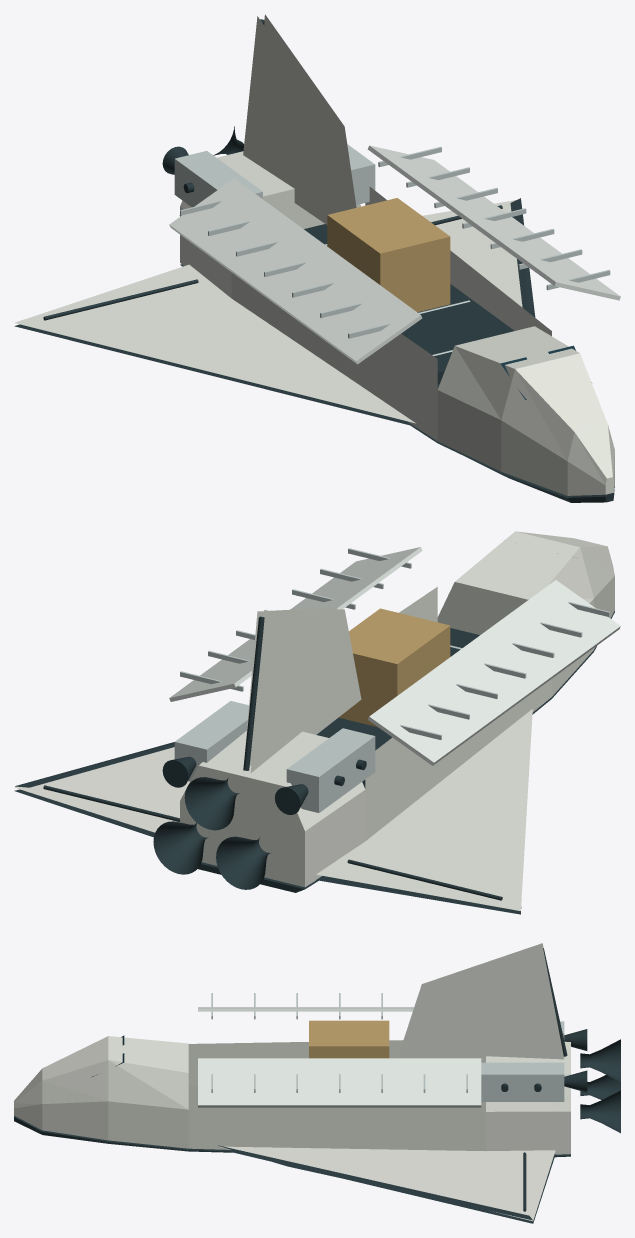
File: space-shuttle.glb
The picture shows the model from 3 angles, top to bottom: view 1: azimuth 30°, elevation 25°; view 2: azimuth 150°, elevation 25°; view 3: azimuth 270°, elevation 25°; orthographic projection. The views are drawn at different scales.
Parts seen in each view (by area): view 1: open-payload-bay-door (×2), double-delta-wing (×2), orbiter-forward-fuselage, vertical-stabilizer, open-bay-sidewall (×2), illustrative-payload-envelope, payload-bay-floor, payload, orbiter-aft-fuselage, OMS-RCS-pod (×2), frame, heatshield (+3 smaller); view 2: double-delta-wing (×2), open-payload-bay-door (×2), orbiter-aft-fuselage, vertical-stabilizer, orbiter-forward-fuselage, illustrative-payload-envelope, open-bay-sidewall (×2), OMS-RCS-pod (×2), space-shuttle-main-engine (×3), payload, heatshield, OMS-engine (×2) (+6 smaller); view 3: open-bay-sidewall (×2), open-payload-bay-door (×2), orbiter-forward-fuselage, frame, double-delta-wing, orbiter-aft-fuselage, OMS-RCS-pod, illustrative-payload-envelope, space-shuttle-main-engine (×3), reinforced-carbon-leading-edge, orbiter-belly-thermal-protection, heatshield (+3 smaller).
Boxes of the visible parts, left/top/right/bottom form: open-payload-bay-door (×2): left=169, top=145, right=620, bottom=364; double-delta-wing (×2): left=14, top=200, right=522, bottom=423; orbiter-forward-fuselage: left=437, top=326, right=614, bottom=495; vertical-stabilizer: left=243, top=16, right=348, bottom=224; open-bay-sidewall (×2): left=231, top=186, right=551, bottom=440; illustrative-payload-envelope: left=327, top=198, right=450, bottom=312; payload-bay-floor: left=304, top=224, right=514, bottom=383; payload: left=180, top=146, right=610, bottom=355; orbiter-aft-fuselage: left=180, top=151, right=361, bottom=298; OMS-RCS-pod (×2): left=174, top=144, right=375, bottom=207; frame: left=264, top=14, right=356, bottom=209; heatshield: left=14, top=324, right=414, bottom=426; double-delta-wing (×2): left=14, top=709, right=532, bottom=910; open-payload-bay-door (×2): left=169, top=547, right=620, bottom=765; orbiter-aft-fuselage: left=180, top=731, right=365, bottom=887; vertical-stabilizer: left=250, top=609, right=361, bottom=772; orbiter-forward-fuselage: left=437, top=531, right=614, bottom=696; illustrative-payload-envelope: left=339, top=608, right=450, bottom=726; open-bay-sidewall (×2): left=365, top=587, right=551, bottom=840; OMS-RCS-pod (×2): left=174, top=701, right=375, bottom=812; space-shuttle-main-engine (×3): left=153, top=777, right=270, bottom=889; payload: left=180, top=548, right=610, bottom=739; heatshield: left=14, top=789, right=521, bottom=914; OMS-engine (×2): left=162, top=756, right=308, bottom=814; open-bay-sidewall (×2): left=188, top=1040, right=485, bottom=1150; open-payload-bay-door (×2): left=198, top=1007, right=481, bottom=1107; orbiter-forward-fuselage: left=14, top=1036, right=188, bottom=1148; frame: left=398, top=946, right=564, bottom=1062; double-delta-wing: left=220, top=1146, right=555, bottom=1221; orbiter-aft-fuselage: left=486, top=1041, right=570, bottom=1154; OMS-RCS-pod: left=481, top=1062, right=564, bottom=1101; illustrative-payload-envelope: left=309, top=1020, right=389, bottom=1058; space-shuttle-main-engine (×3): left=580, top=1039, right=620, bottom=1133; reinforced-carbon-leading-edge: left=218, top=1145, right=532, bottom=1220; orbiter-belly-thermal-protection: left=14, top=1115, right=570, bottom=1157; heatshield: left=222, top=1149, right=555, bottom=1223.
Bounding box in the file's own units: 4.7 × 2.27 × 6.43.
